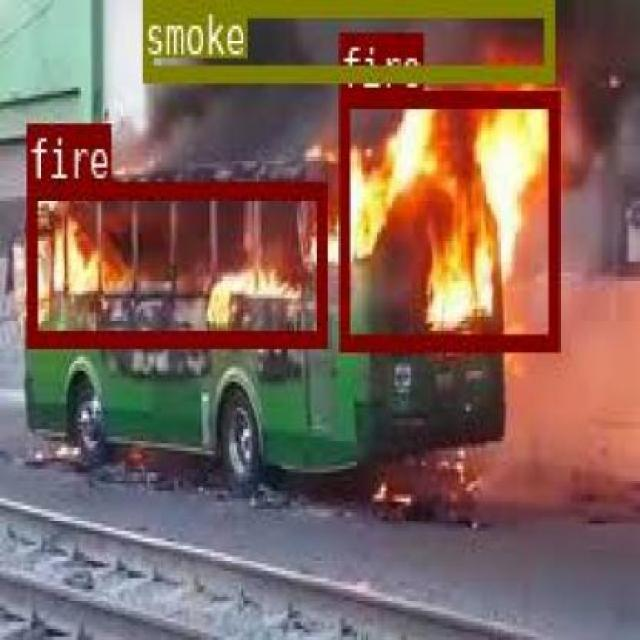Fire: (338, 88, 556, 347), (25, 178, 324, 344)
Smoke: (140, 0, 551, 80)
